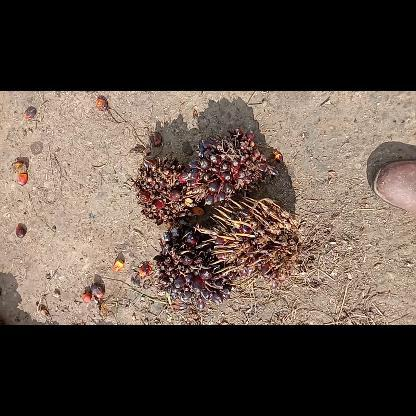TBS abnormal: (196, 198, 296, 288), (186, 128, 274, 204), (153, 229, 235, 308), (132, 157, 196, 225)
